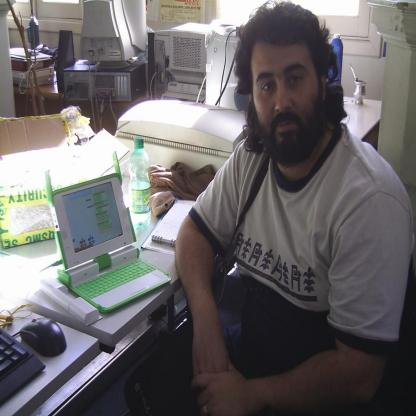board: (45, 168, 162, 324), (128, 138, 151, 229), (328, 32, 344, 90)
